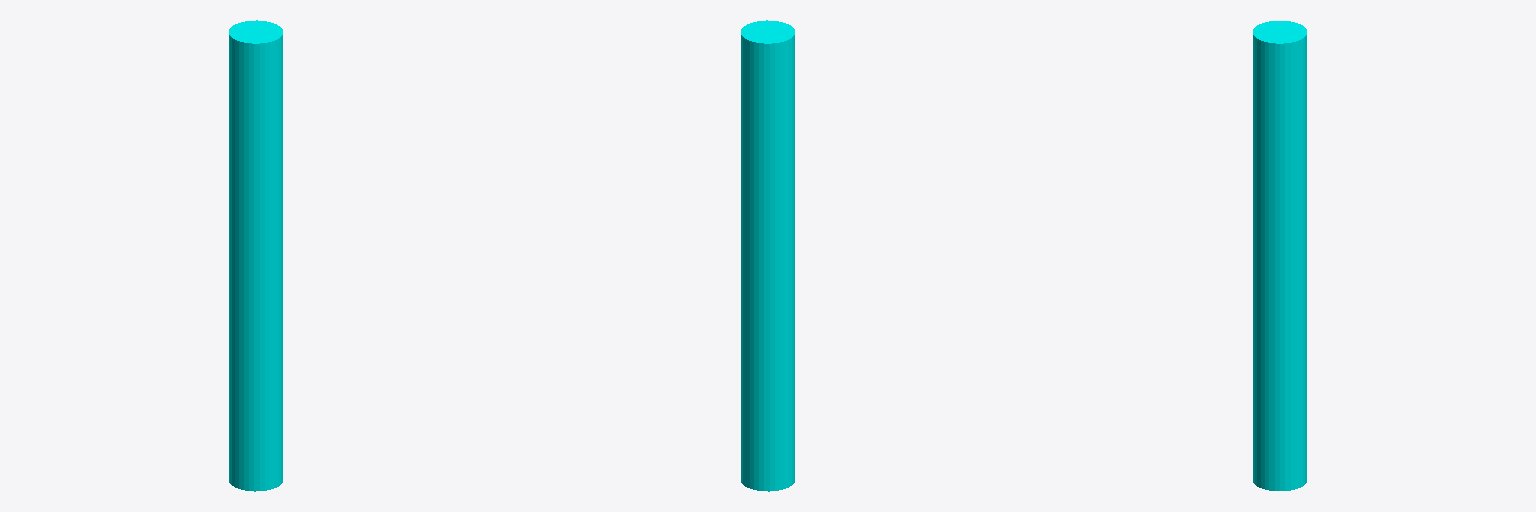
URDF robot description (two_dof_robot):
<?xml version="1.0"?>
<robot name="two_dof_robot">

  <link name="link1">
    <inertial>
      <mass value="1"/>
      <inertia ixx="0.0325" ixy="0.0" ixz="0.0" iyy="0.0325" iyz="0.0" izz="0.005"/>
      <origin xyz="0 0 0.3"/>
    </inertial>
    <visual>
      <origin xyz="0 0 0.3" rpy="0 0 0"/>
      <geometry>
        <cylinder length="0.6" radius="0.1"/>
      </geometry>
     <material name="Cyan">
       <color rgba="0 1.0 1.0 1.0"/>
     </material>
    </visual>
    <collision>
      <geometry>
        <cylinder length="0.6" radius="0.1"/>
      </geometry>
      <origin xyz="0 0 0.3"/>
    </collision>
  </link>

  <link name="link2">
    <inertial>
      <mass value="1"/>
      <inertia ixx="0.0325" ixy="0.0" ixz="0.0" iyy="0.0325" iyz="0.0" izz="0.005"/>
      <origin xyz="0 0 0.3"/>
    </inertial>
    <visual>
      <origin xyz="0 0 0.3" rpy="0 0 0"/>
      <geometry>
        <cylinder length="0.6" radius="0.1"/>
      </geometry>
     <material name="Cyan">
       <color rgba="0 1.0 1.0 1.0"/>
     </material>
    </visual>
    <collision>
      <geometry>
        <cylinder length="0.6" radius="0.1"/>
      </geometry>
      <origin xyz="0 0 0.3"/>
    </collision>
  </link>

  <link name="link3">
    <inertial>
      <mass value="1"/>
      <inertia ixx="0.0325" ixy="0.0" ixz="0.0" iyy="0.0325" iyz="0.0" izz="0.005"/>
      <origin xyz="0 0 0.3"/>
    </inertial>
    <visual>
      <origin xyz="0 0 0.3" rpy="0 0 0"/>
      <geometry>
        <cylinder length="0.6" radius="0.1"/>
      </geometry>
     <material name="Cyan">
       <color rgba="0 1.0 1.0 1.0"/>
     </material>
    </visual>
    <collision>
      <geometry>
        <cylinder length="0.6" radius="0.1"/>
      </geometry>
      <origin xyz="0 0 0.3"/>
    </collision>
  </link>

  <joint name="joint1" type="revolute">
    <parent link="link1"/>
    <child link="link2"/>
    <origin xyz="0 0 0.6" rpy="0 0 0"/>
    <limit effort="30" velocity="1.0" lower="-1.5708" upper="1.5708" />
  </joint>

  <joint name="joint2" type="revolute">
    <parent link="link2"/>
    <child link="link3"/>
    <origin xyz="0 0 0.6" rpy="0 0 0"/>
    <limit effort="30" velocity="1.0" lower="-1.5708" upper="1.5708" />
  </joint>
</robot>

--- Render facts (derived) ---
Views: 3 orthographic renders of the robot side by side, from view 1: azimuth 30°, elevation 25°; view 2: azimuth 150°, elevation 25°; view 3: azimuth 270°, elevation 25°.
Model two_dof_robot with 3 links and 2 joints (2 revolute), rooted at link1, posed every joint at zero.
Links seen in each view (by area): view 1: link3, link2, link1; view 2: link3, link2, link1; view 3: link3, link2, link1.
Link boxes in pixels (<box>): link3: <box>229,20,282,192</box>; link2: <box>229,184,282,341</box>; link1: <box>229,333,282,491</box>; link3: <box>741,20,794,192</box>; link2: <box>741,184,794,341</box>; link1: <box>741,333,794,491</box>; link3: <box>1253,21,1306,192</box>; link2: <box>1253,184,1306,341</box>; link1: <box>1253,333,1306,490</box>.
Bounding box of the posed robot: 0.2 × 0.2 × 1.8 m (x, y, z).
Geometry: primitives only (box / cylinder / sphere), no mesh files.